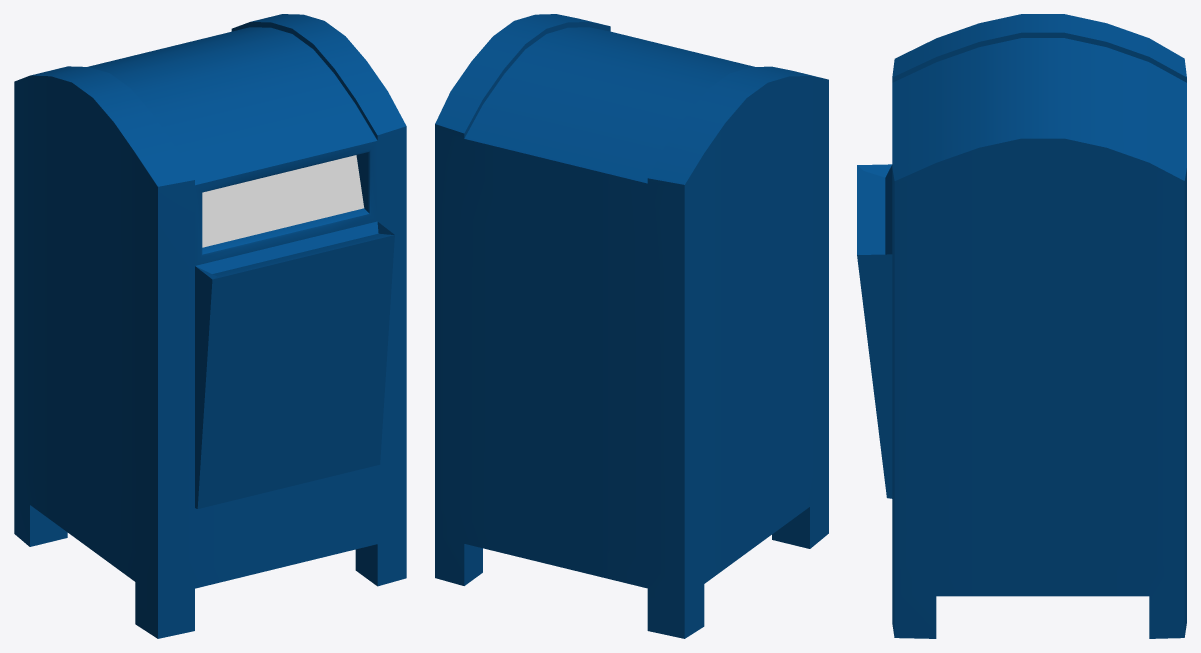
Rendered from Buzon.fbx.
The picture shows the model from 3 angles, left to right: view 1: azimuth 30°, elevation 25°; view 2: azimuth 150°, elevation 25°; view 3: azimuth 270°, elevation 25°; orthographic projection.
Parts seen in each view (by area): view 1: Buzon.001, Buzon.003, Buzon.002; view 2: Buzon.001, Buzon.002; view 3: Buzon.001, Buzon.002, Buzon.003.
Boxes of the visible parts, left/top/right/bottom form: Buzon.001: left=14, top=14, right=406, bottom=567; Buzon.003: left=195, top=221, right=394, bottom=508; Buzon.002: left=14, top=462, right=406, bottom=638; Buzon.001: left=435, top=14, right=828, bottom=566; Buzon.002: left=435, top=462, right=828, bottom=638; Buzon.001: left=892, top=14, right=1186, bottom=565; Buzon.002: left=892, top=552, right=1186, bottom=638; Buzon.003: left=857, top=164, right=892, bottom=498.
Size of the model in its own units: 105 by 197 by 118.
